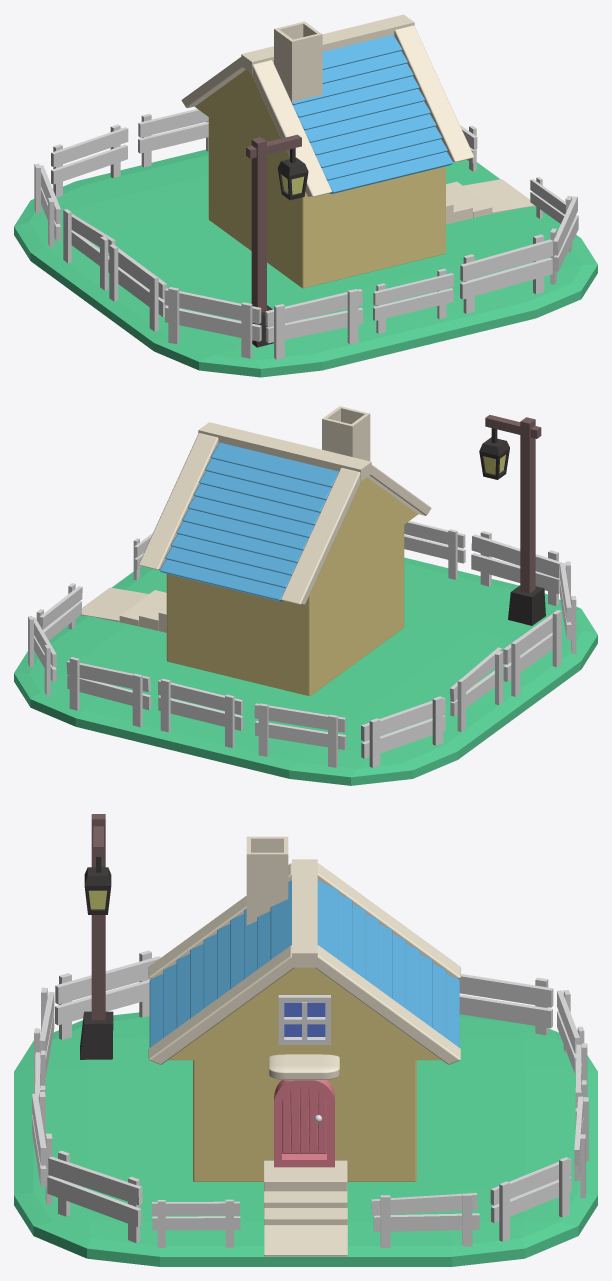
File: house.glb
The picture shows the model from 3 angles, top to bottom: view 1: azimuth 30°, elevation 25°; view 2: azimuth 150°, elevation 25°; view 3: azimuth 270°, elevation 25°; orthographic projection. The views are drawn at different scales.
Parts seen in each view (by area): view 1: Cube.014, Cube.002, Cube.004, Cube.003, baked.036, baked.053, baked.039, Cube.012, baked.019, baked.049, baked.044, baked.004 (+11 smaller); view 2: Cube.014, Cube.002, Cube.004, Cube.003, baked.019, baked.024, baked.004, baked.015, baked.039, Cube.005, baked.044, baked.032 (+12 smaller); view 3: Cube.014, Cube.002, Cube.004, Cube.003, baked.057, baked.007, baked.024, baked.036, baked.011, Cube.012, baked.061, Cube.005 (+17 smaller).
Boxes of the visible parts, bbox=[...] form: Cube.014: bbox=[14, 149, 597, 377]; Cube.002: bbox=[195, 70, 445, 288]; Cube.004: bbox=[292, 35, 453, 193]; Cube.003: bbox=[181, 25, 474, 197]; baked.036: bbox=[164, 287, 261, 358]; baked.053: bbox=[460, 234, 552, 313]; baked.039: bbox=[265, 289, 363, 359]; Cube.012: bbox=[274, 21, 322, 102]; baked.019: bbox=[51, 124, 128, 197]; baked.049: bbox=[373, 268, 453, 333]; baked.044: bbox=[251, 137, 266, 312]; baked.004: bbox=[138, 109, 208, 167]; Cube.014: bbox=[14, 557, 597, 785]; Cube.002: bbox=[166, 477, 417, 696]; Cube.004: bbox=[159, 442, 338, 601]; Cube.003: bbox=[138, 433, 431, 604]; baked.019: bbox=[254, 703, 346, 767]; baked.024: bbox=[361, 696, 445, 768]; baked.004: bbox=[158, 678, 243, 748]; baked.015: bbox=[66, 657, 151, 727]; baked.039: bbox=[471, 531, 561, 606]; Cube.005: bbox=[198, 422, 371, 481]; baked.044: bbox=[520, 417, 535, 593]; baked.032: bbox=[503, 610, 561, 696]; Cube.014: bbox=[14, 1012, 597, 1266]; Cube.002: bbox=[168, 967, 441, 1181]; Cube.004: bbox=[149, 880, 459, 1047]; Cube.003: bbox=[148, 863, 460, 1064]; baked.057: bbox=[47, 1150, 142, 1243]; baked.007: bbox=[371, 1193, 479, 1248]; baked.024: bbox=[458, 974, 553, 1035]; baked.036: bbox=[55, 950, 160, 1039]; baked.011: bbox=[490, 1157, 571, 1241]; Cube.012: bbox=[246, 836, 288, 925]; baked.061: bbox=[152, 1199, 240, 1247]; Cube.005: bbox=[292, 859, 317, 967].
Bounding box in the file's own units: 14 × 7.65 × 14.
